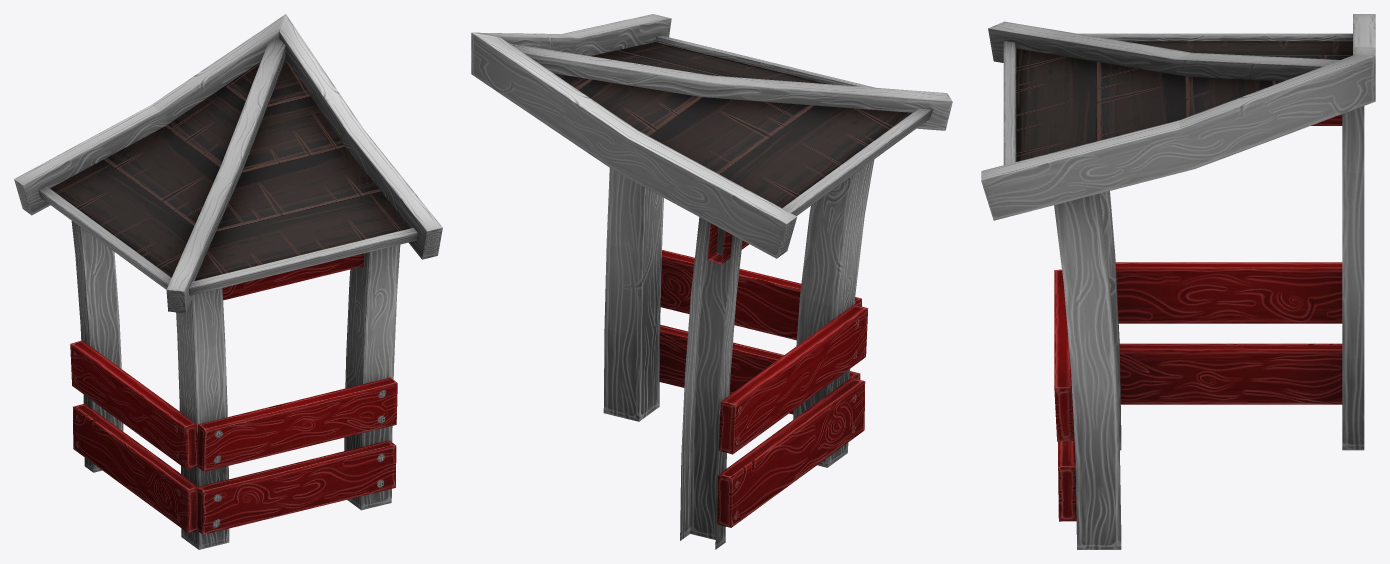
File: Corner_L.fbx
3 views of the same model, side by side, from view 1: azimuth 30°, elevation 25°; view 2: azimuth 150°, elevation 25°; view 3: azimuth 270°, elevation 25° (orthographic). The views are drawn at different scales.
Visible parts, largest first — view 1: Corner_Out_L; view 2: Corner_Out_L; view 3: Corner_Out_L.
Boxes of the visible parts, bbox=[...] form: Corner_Out_L: bbox=[14, 14, 442, 549]; Corner_Out_L: bbox=[471, 14, 952, 549]; Corner_Out_L: bbox=[981, 14, 1375, 549].
Bounding box in the file's own units: 134 × 188 × 134.
